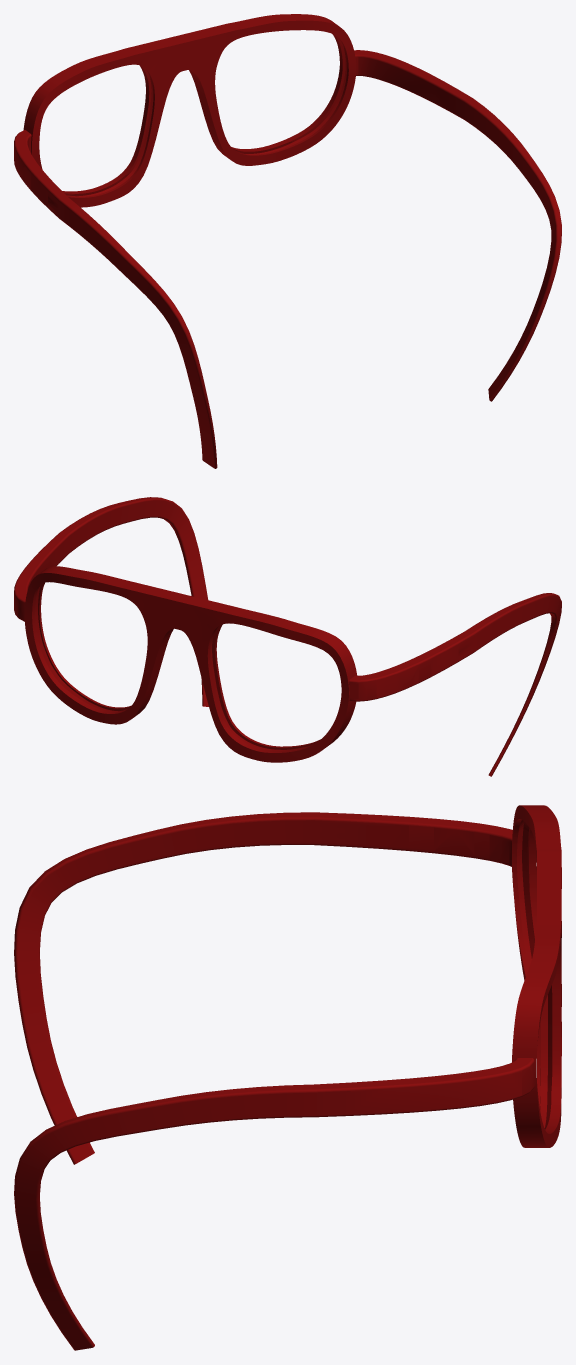
The model's file is glass-leon-4_6.obj.
3 views of the same model, one above another, from view 1: azimuth 30°, elevation 25°; view 2: azimuth 150°, elevation 25°; view 3: azimuth 270°, elevation 25° (orthographic). The views are drawn at different scales.
Visible parts, largest first — view 1: Loft016; view 2: Loft016; view 3: Loft016.
Boxes of the visible parts, x1=… form: Loft016: x1=14, y1=14, x2=561, y2=468; Loft016: x1=14, y1=497, x2=561, y2=776; Loft016: x1=14, y1=805, x2=561, y2=1350.
Bounding box in the file's own units: 133 × 82.78 × 111.
